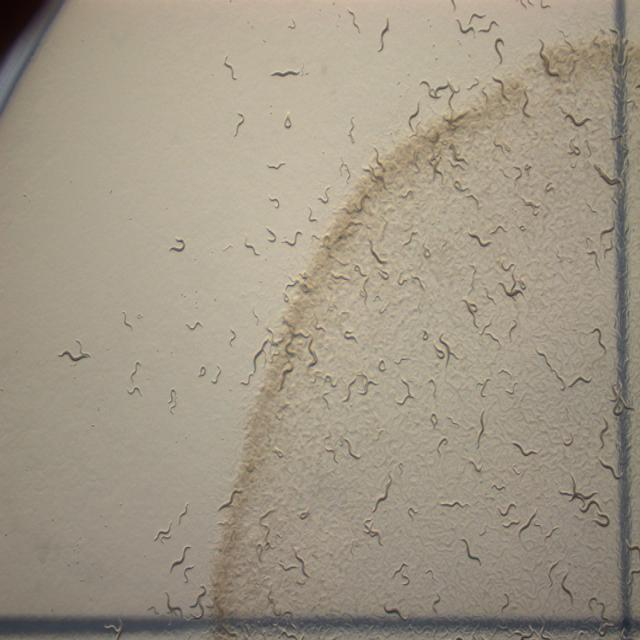filarid: (241, 327, 280, 385), (536, 350, 565, 387), (169, 544, 195, 584), (372, 472, 392, 512), (59, 340, 90, 362), (501, 270, 526, 296), (518, 509, 538, 540), (439, 334, 458, 366), (479, 319, 501, 345), (190, 584, 208, 614), (462, 297, 479, 328), (340, 435, 360, 460), (152, 520, 173, 543), (461, 537, 480, 561), (561, 571, 574, 605), (219, 489, 240, 510), (591, 327, 606, 354), (365, 517, 381, 541), (512, 441, 538, 455), (600, 220, 615, 243), (129, 362, 140, 393), (476, 412, 485, 448), (384, 604, 405, 619), (176, 502, 189, 526), (244, 237, 260, 256), (440, 499, 470, 509), (469, 233, 490, 247), (548, 561, 559, 586), (569, 375, 591, 387), (170, 237, 186, 253), (587, 250, 600, 269), (392, 562, 408, 577), (168, 596, 182, 613), (498, 502, 516, 515), (544, 526, 559, 541), (509, 319, 518, 341), (212, 365, 221, 384), (434, 344, 445, 359), (123, 312, 132, 330), (186, 320, 201, 330), (486, 287, 495, 303), (604, 240, 612, 258), (170, 389, 176, 411), (480, 379, 488, 395), (502, 520, 519, 527), (282, 239, 295, 247), (268, 229, 276, 242), (534, 522, 542, 535), (230, 329, 236, 346), (282, 364, 292, 374), (408, 507, 418, 517), (199, 365, 208, 376), (501, 264, 514, 270), (294, 230, 300, 241), (500, 369, 510, 375), (470, 264, 476, 274), (434, 596, 440, 603), (334, 452, 338, 462), (325, 448, 334, 452), (400, 464, 402, 470)
